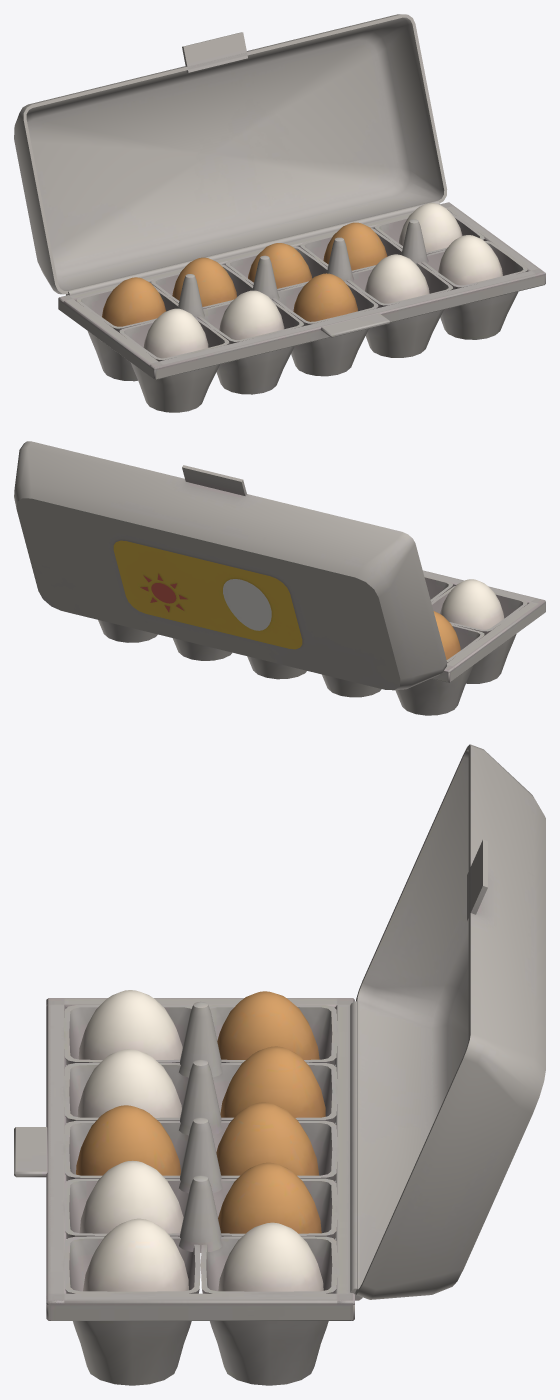
The model's file is egg-carton.glb.
The picture shows the model from 3 angles, top to bottom: view 1: azimuth 30°, elevation 25°; view 2: azimuth 150°, elevation 25°; view 3: azimuth 270°, elevation 25°; orthographic projection. The views are drawn at different scales.
Visible parts, largest first — view 1: egg-carton_lid, egg-carton_body; view 2: egg-carton_lid, egg-carton_body; view 3: egg-carton_body, egg-carton_lid.
Boxes of the visible parts, x1,y1,x2,y2 form: egg-carton_lid: (14, 14, 447, 294); egg-carton_body: (58, 200, 545, 412); egg-carton_lid: (14, 441, 446, 690); egg-carton_body: (98, 570, 545, 715); egg-carton_body: (14, 990, 362, 1385); egg-carton_lid: (355, 744, 545, 1299).
Bounding box in the file's own units: 0.289 × 0.172 × 0.2136.
2 materials, 2 textured.
